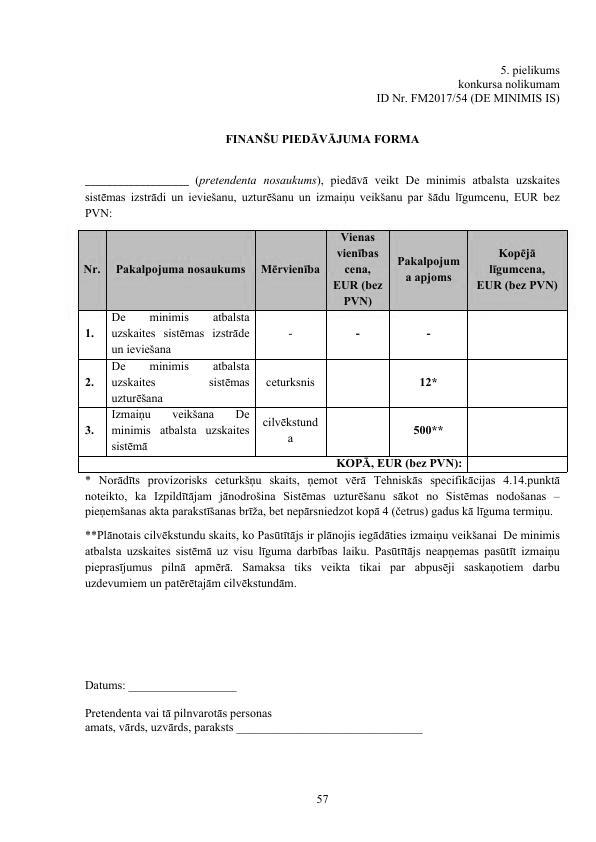input: (237, 720, 424, 740), (124, 678, 244, 699), (83, 168, 191, 189)
table: (72, 225, 570, 472)
text: (77, 474, 568, 600), (78, 188, 580, 220), (366, 61, 572, 111), (194, 170, 563, 187), (218, 127, 425, 153), (80, 720, 233, 737), (82, 707, 275, 720), (80, 678, 124, 694)
